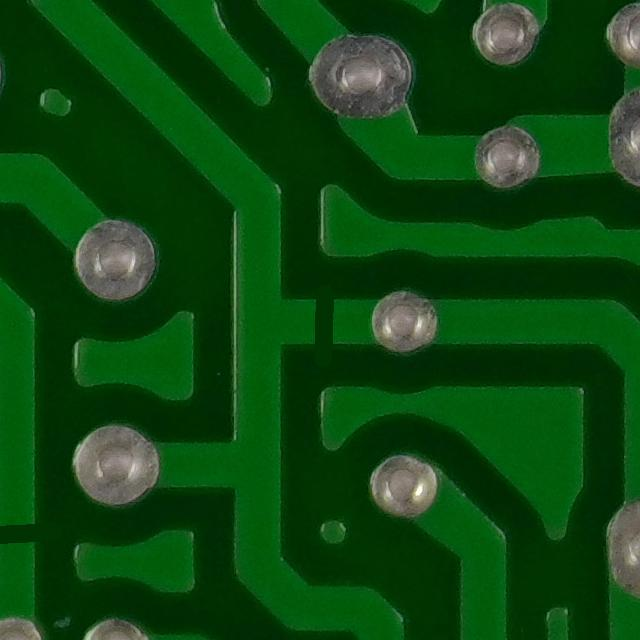open_circuit: (294, 278, 346, 362)
